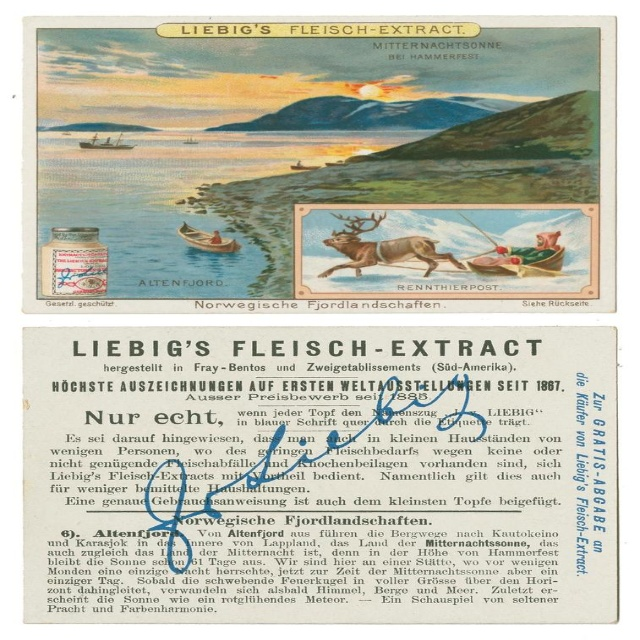Deer: (321, 208, 461, 280)
